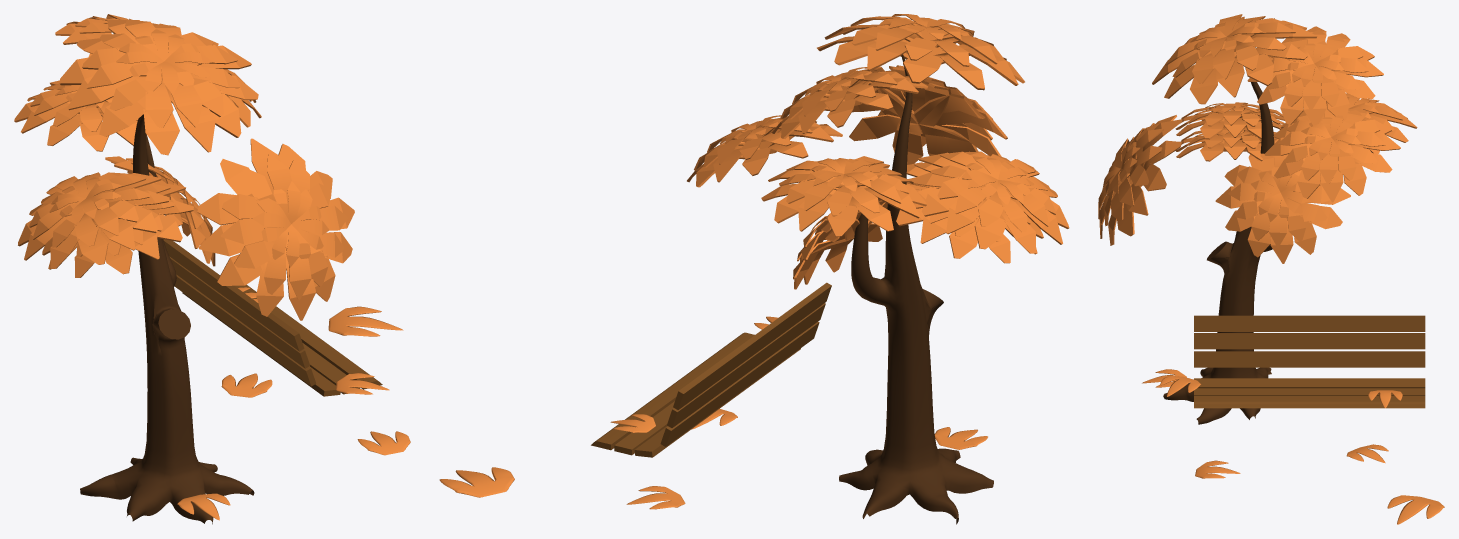
Rendered from Textures_attempt1.obj.
3 views of the same model, side by side, from view 1: azimuth 30°, elevation 25°; view 2: azimuth 150°, elevation 25°; view 3: azimuth 270°, elevation 25° (orthographic). The views are drawn at different scales.
Visible parts, largest first — view 1: tree_leaf_clusters leaf_cluster2, tree_leaf_clusters leaf_cluster6, tree4, tree_leaf_clusters leaf_cluster7, tree_leaf_clusters leaf_cluster4, tree_leaf_clusters leaf_cluster8, wood bench_wood1, leaf_cluster3 tree_leaf_clusters, bench_wood1 wood2, bench_wood1 wood1, bench_wood1 wood5, leaf (+8 smaller); view 2: tree4, tree_leaf_clusters leaf_cluster7, tree_leaf_clusters leaf_cluster4, tree_leaf_clusters leaf_cluster6, tree_leaf_clusters leaf_cluster2, tree_leaf_clusters leaf_cluster9, tree_leaf_clusters leaf_cluster5, wood bench_wood1, tree_leaf_clusters leaf_cluster8, leaf_cluster3 tree_leaf_clusters, bench_wood1 wood2, bench_wood1 wood1 (+6 smaller); view 3: leaf_cluster3 tree_leaf_clusters, tree_leaf_clusters leaf_cluster6, tree_leaf_clusters leaf_cluster5, tree_leaf_clusters leaf_cluster9, tree4, tree_leaf_clusters leaf_cluster2, bench_wood1 wood2, wood bench_wood1, bench_wood1 wood1, bench_wood1 wood5, bench_wood1 wood3, tree_leaf_clusters leaf_cluster7 (+7 smaller).
Boxes of the visible parts, bbox=[...] form: tree_leaf_clusters leaf_cluster2: bbox=[197, 138, 354, 320]; tree_leaf_clusters leaf_cluster6: bbox=[59, 20, 258, 155]; tree4: bbox=[80, 114, 254, 524]; tree_leaf_clusters leaf_cluster7: bbox=[18, 172, 169, 268]; tree_leaf_clusters leaf_cluster4: bbox=[14, 80, 138, 151]; tree_leaf_clusters leaf_cluster8: bbox=[42, 182, 193, 277]; wood bench_wood1: bbox=[163, 239, 304, 351]; leaf_cluster3 tree_leaf_clusters: bbox=[105, 156, 215, 266]; bench_wood1 wood2: bbox=[174, 274, 316, 386]; bench_wood1 wood1: bbox=[169, 256, 310, 368]; bench_wood1 wood5: bbox=[235, 284, 382, 389]; leaf: bbox=[328, 306, 403, 336]; tree4: bbox=[839, 54, 993, 524]; tree_leaf_clusters leaf_cluster7: bbox=[910, 151, 1069, 253]; tree_leaf_clusters leaf_cluster4: bbox=[761, 156, 926, 236]; tree_leaf_clusters leaf_cluster6: bbox=[817, 14, 1024, 90]; tree_leaf_clusters leaf_cluster2: bbox=[849, 65, 1007, 164]; tree_leaf_clusters leaf_cluster9: bbox=[771, 66, 927, 138]; tree_leaf_clusters leaf_cluster5: bbox=[687, 115, 842, 187]; wood bench_wood1: bbox=[673, 282, 831, 409]; tree_leaf_clusters leaf_cluster8: bbox=[896, 162, 1043, 263]; leaf_cluster3 tree_leaf_clusters: bbox=[793, 189, 921, 289]; bench_wood1 wood2: bbox=[660, 321, 819, 446]; bench_wood1 wood1: bbox=[667, 303, 825, 427]; leaf_cluster3 tree_leaf_clusters: bbox=[1215, 139, 1350, 263]; tree_leaf_clusters leaf_cluster6: bbox=[1152, 14, 1317, 104]; tree_leaf_clusters leaf_cluster5: bbox=[1264, 103, 1400, 202]; tree_leaf_clusters leaf_cluster9: bbox=[1247, 26, 1383, 125]; tree4: bbox=[1163, 77, 1274, 424]; tree_leaf_clusters leaf_cluster2: bbox=[1098, 115, 1182, 245]; bench_wood1 wood2: bbox=[1194, 351, 1425, 367]; wood bench_wood1: bbox=[1194, 315, 1425, 331]; bench_wood1 wood1: bbox=[1194, 333, 1425, 349]; bench_wood1 wood5: bbox=[1194, 396, 1425, 408]; bench_wood1 wood3: bbox=[1194, 378, 1425, 388]; tree_leaf_clusters leaf_cluster7: bbox=[1175, 102, 1284, 139].
Size of the model in its own units: 8.42 by 7.64 by 6.45.
